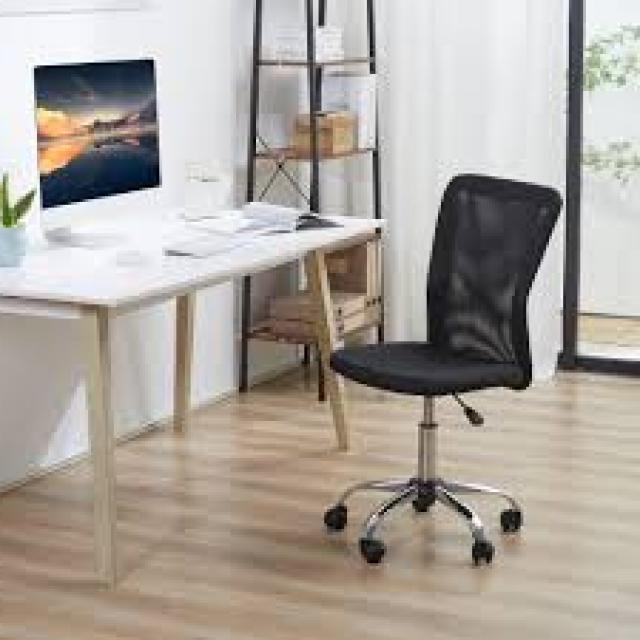chair: (306, 167, 577, 576)
